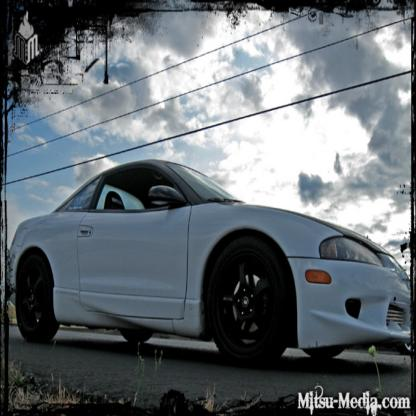Car: (10, 156, 413, 374)
